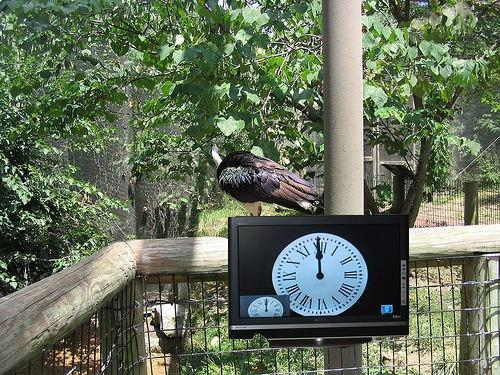tampered: (229, 215, 409, 348)
